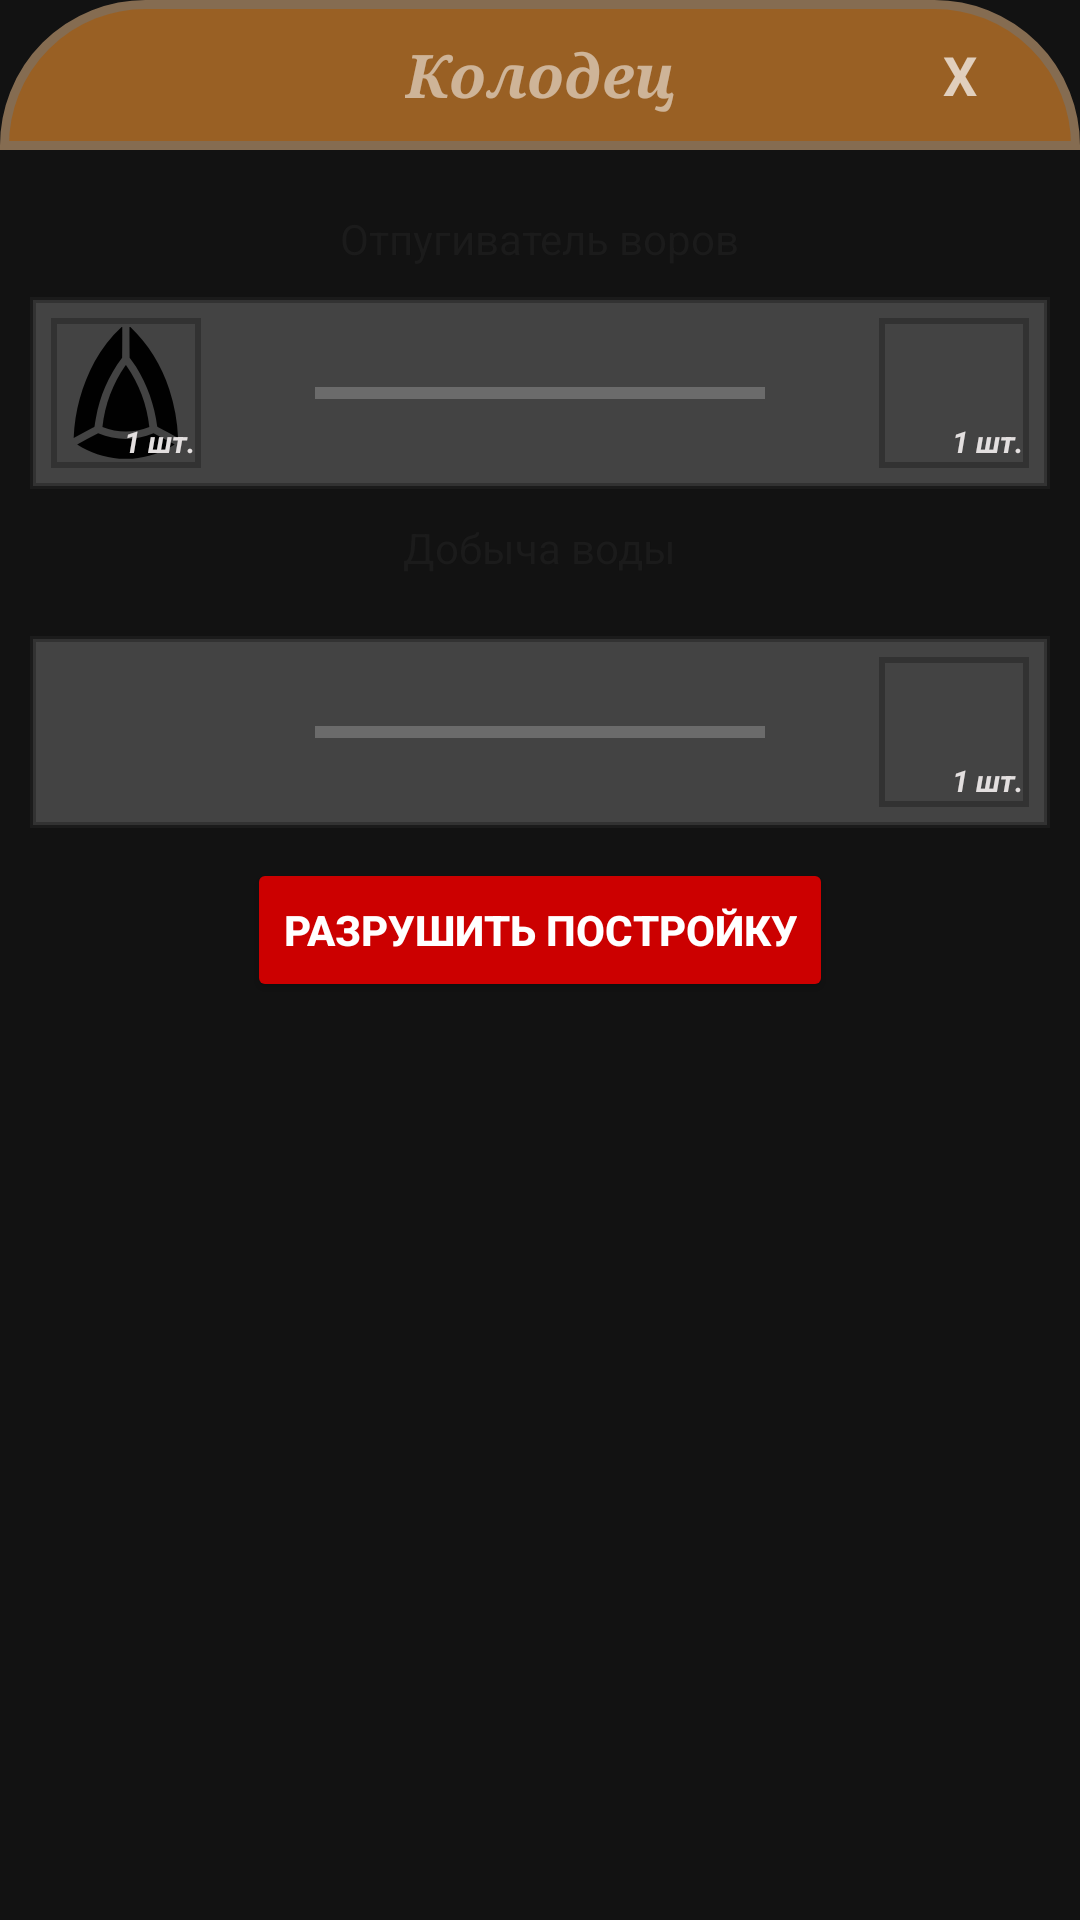

Icons on this 1080*1920 Android screen, each with its box as (x1, y1, x2, y2):
gem for item: (74, 327, 193, 459)
